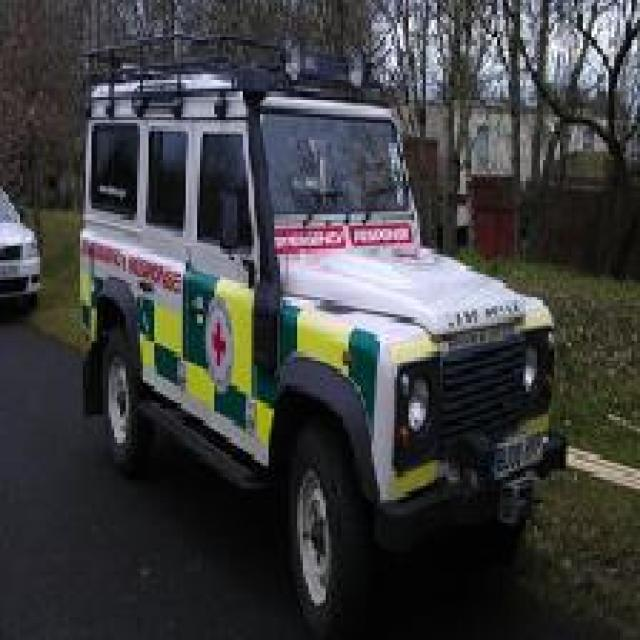Ambulance: (74, 32, 566, 637)
Car: (0, 166, 43, 317)
